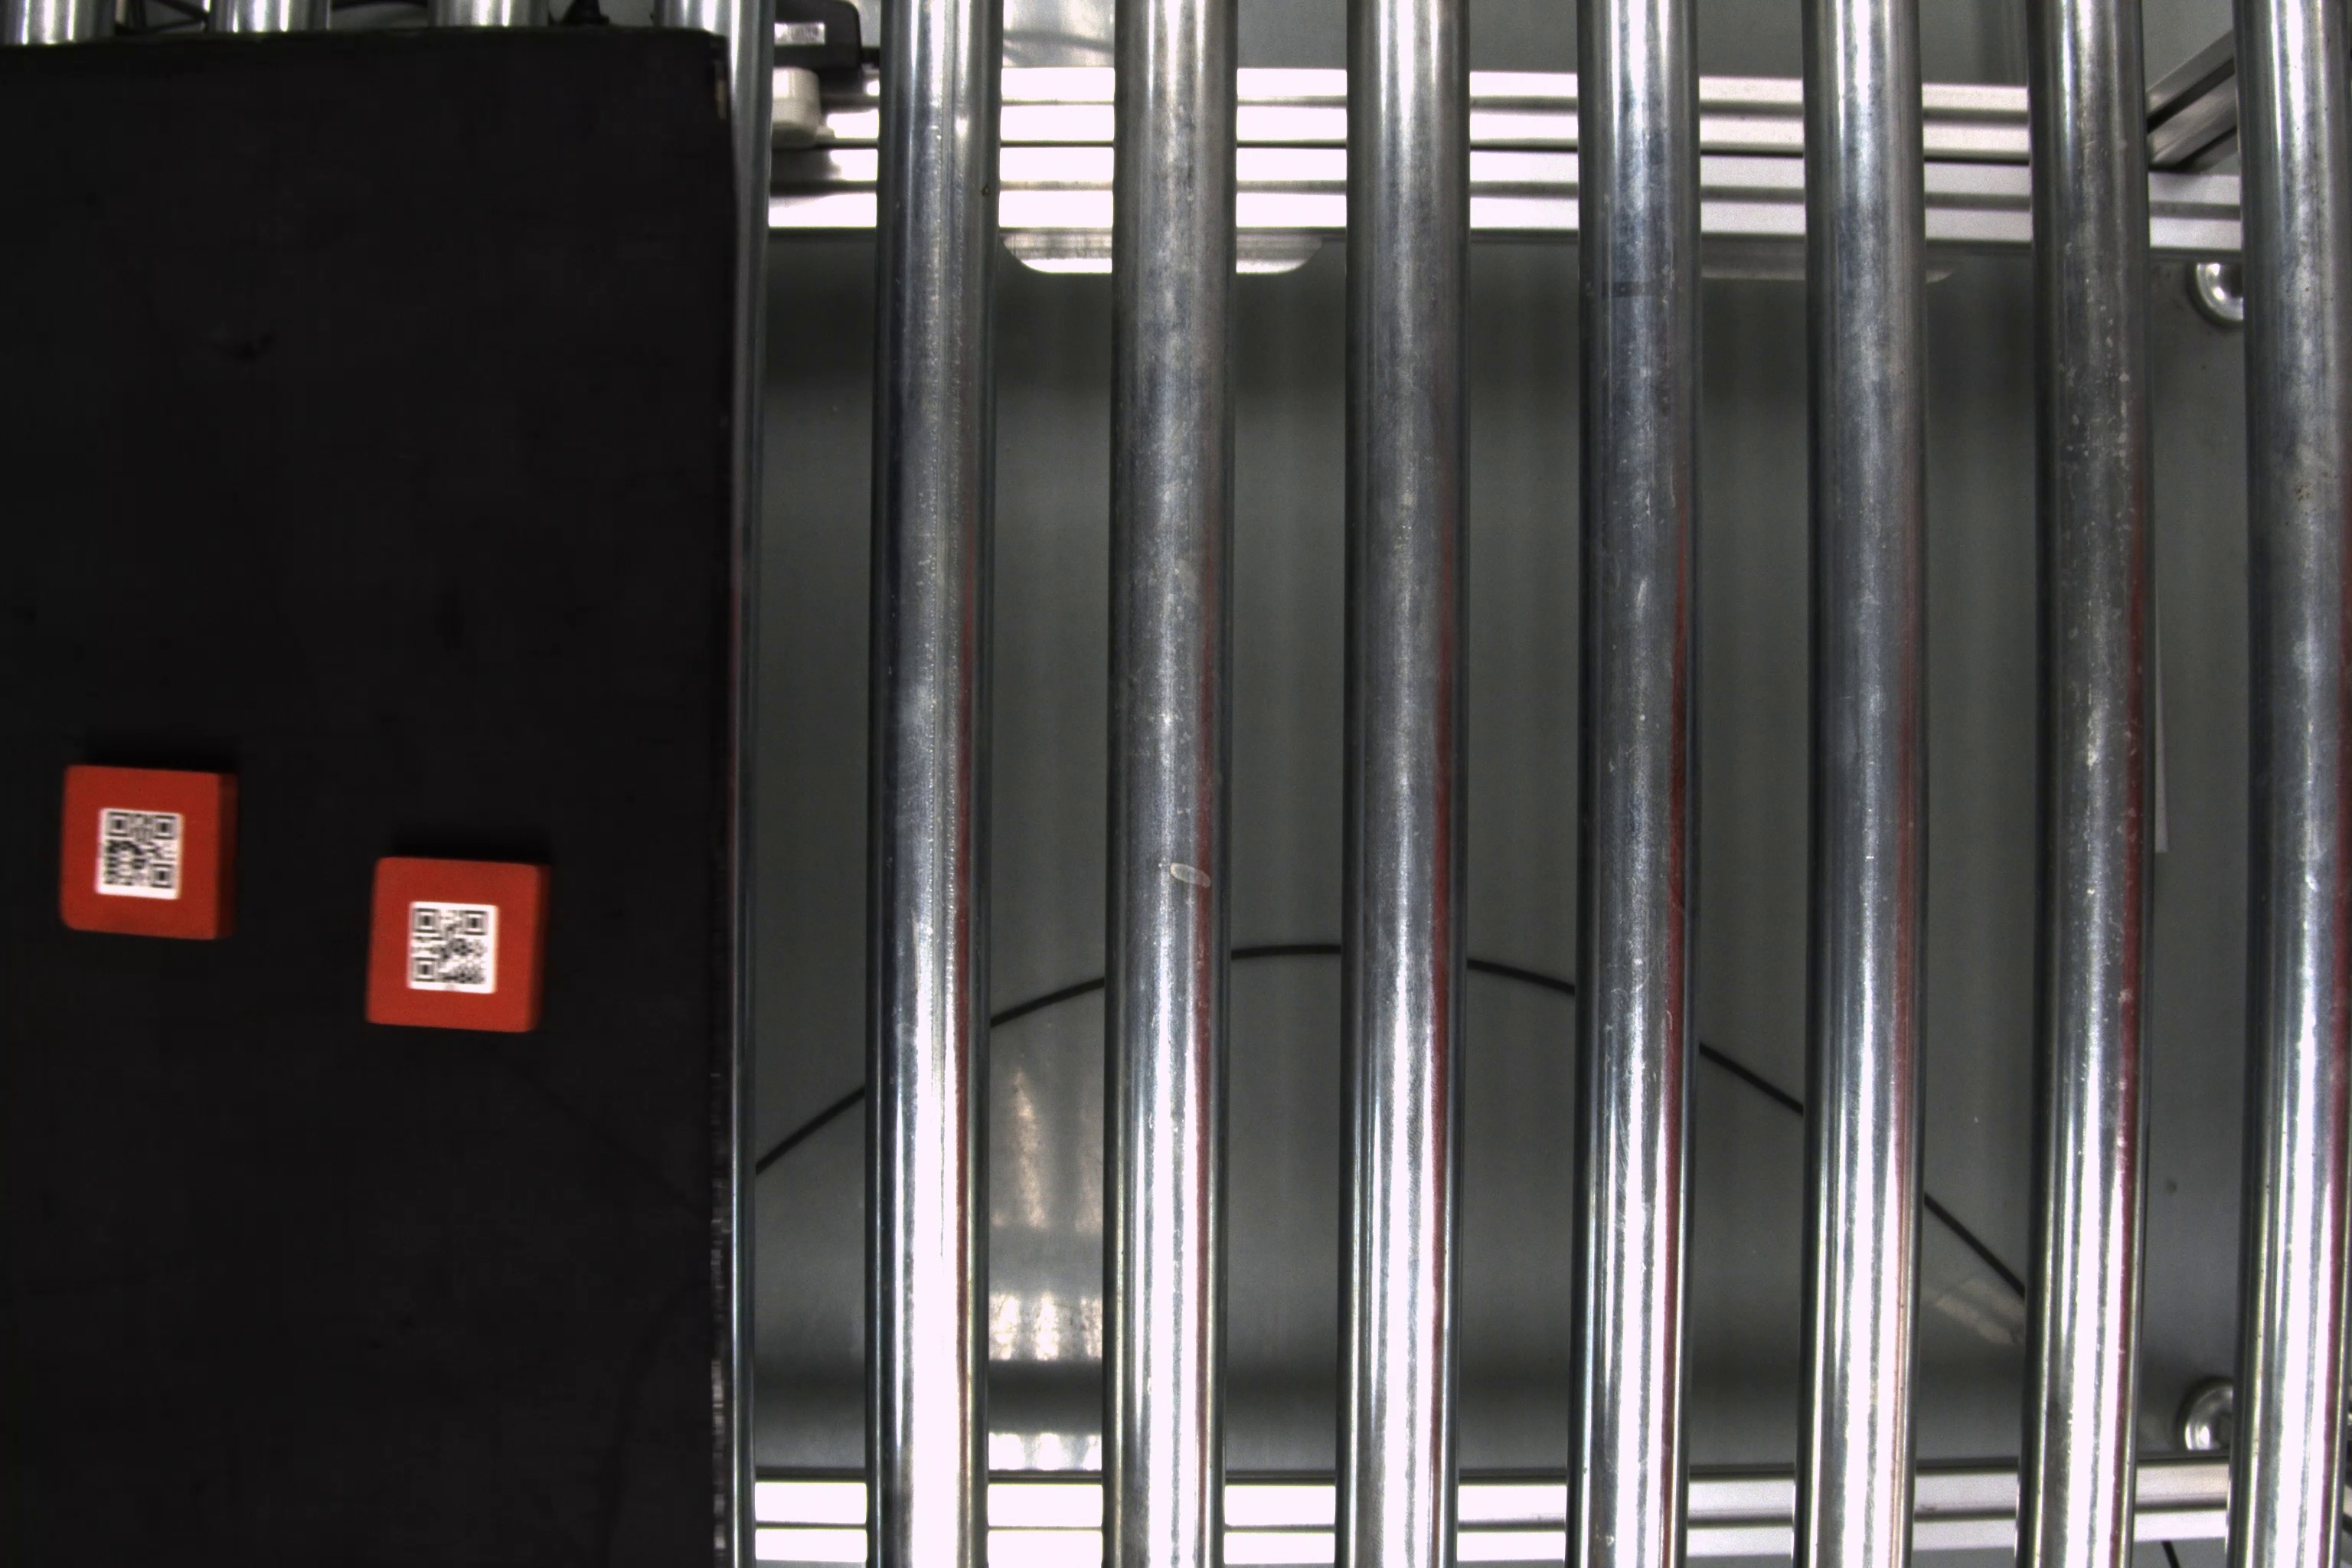wood: (56, 759, 250, 952), (367, 849, 556, 1036)
